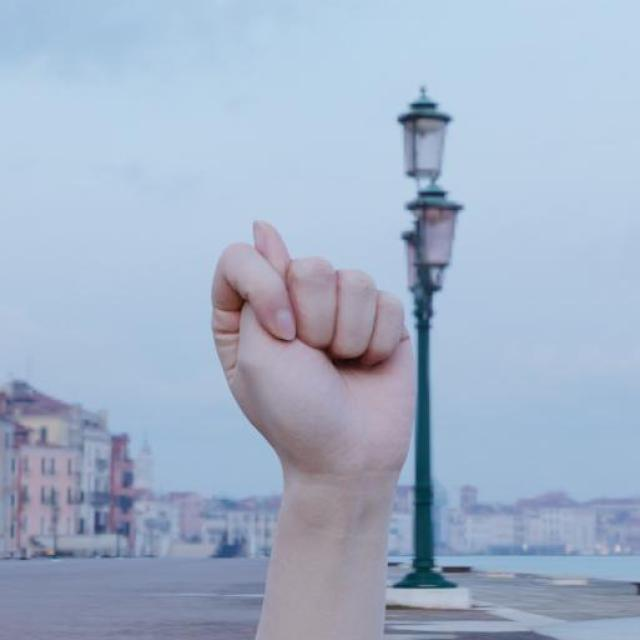T: (205, 215, 421, 490)
